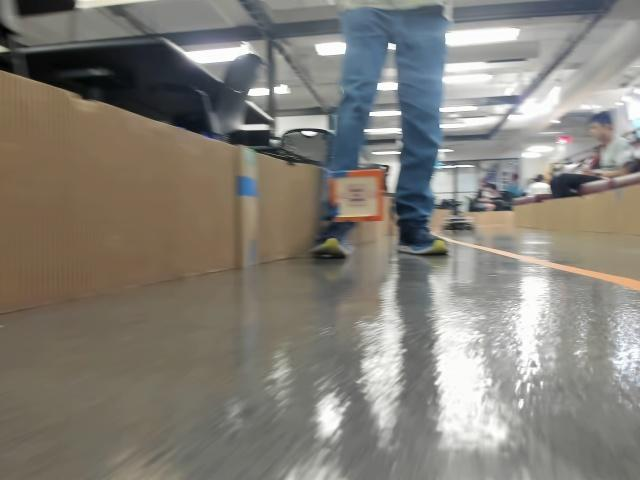Do Not Go Around: (337, 184, 375, 206)
